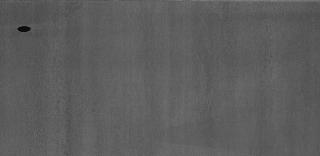punching hole: (16, 24, 32, 34)
